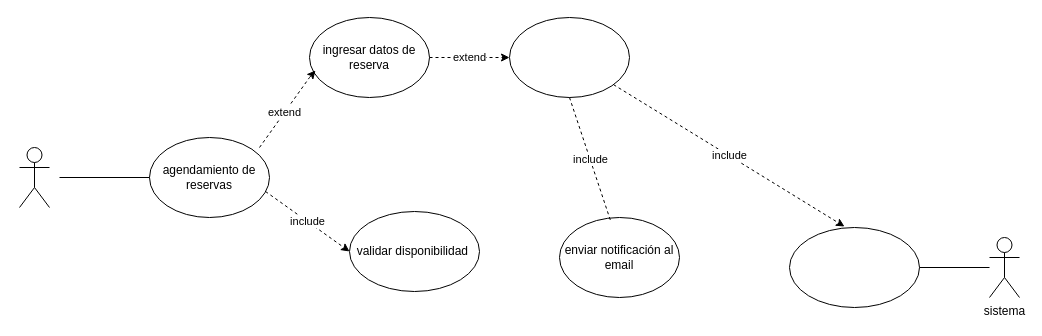
The diagram is 1042 pixels wide and 336 high, and some of its shapes have lost their labels. The box of each missing label's shape, as (x1, y1, x2, y2) in pixels:
cliente: (18, 146, 50, 208)
guardar reserva en el sistema: (788, 226, 920, 308)
Mostrar resumen de la reserva: (508, 16, 630, 98)
